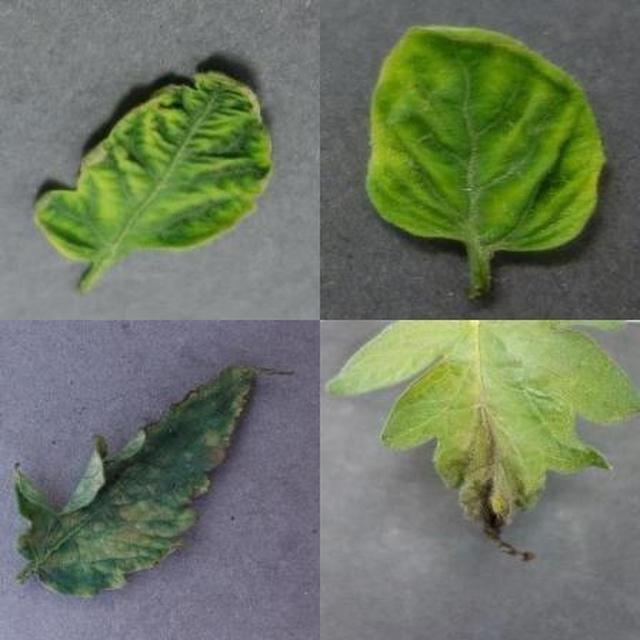Yellow Leaf Curl Virus: (193, 199, 640, 640)
